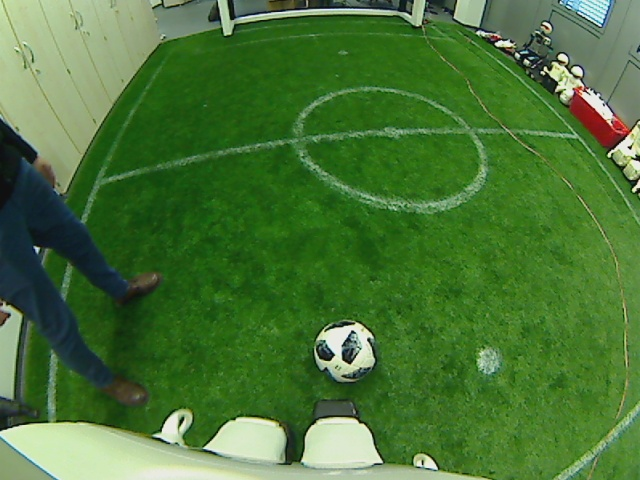ball: (310, 318, 378, 383)
